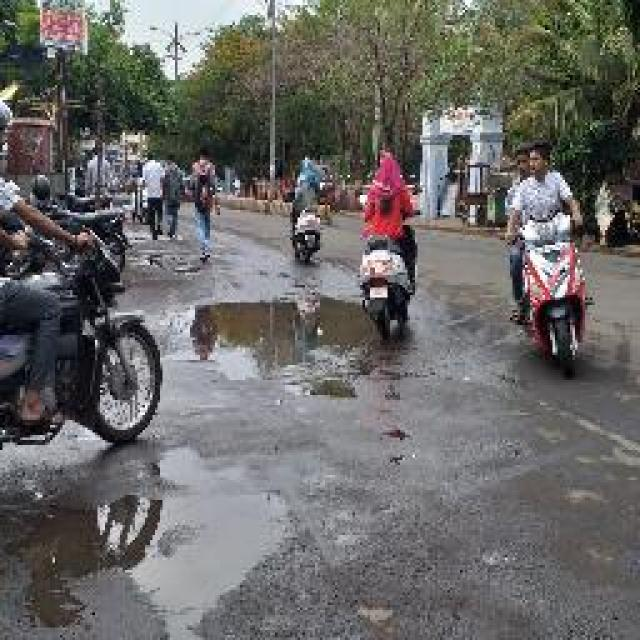puddle: (1, 449, 290, 640), (187, 296, 371, 399)
